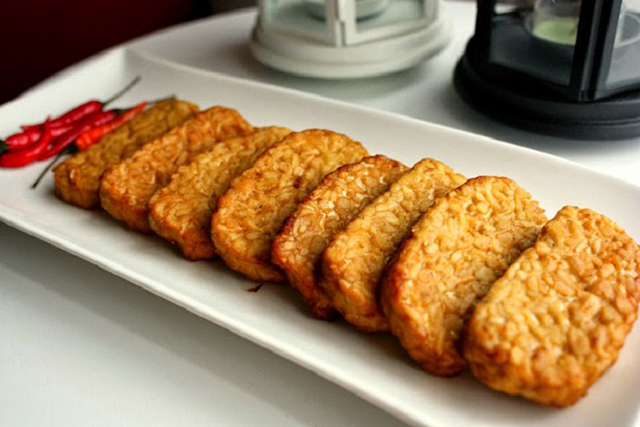Tempe: (476, 214, 639, 396), (352, 185, 543, 339), (189, 112, 342, 232), (321, 155, 468, 277), (41, 103, 178, 192), (150, 136, 263, 228), (104, 115, 229, 198), (280, 176, 378, 261)
